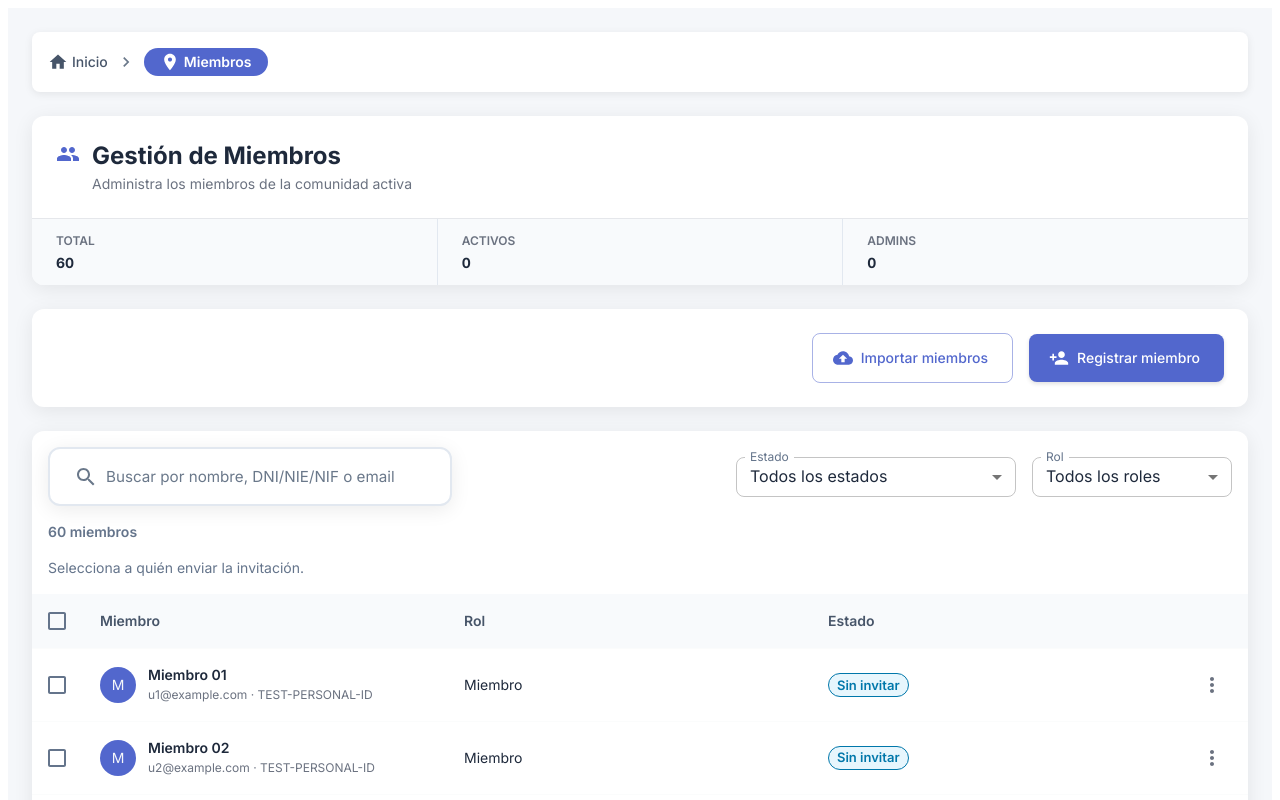
Test: selecting everyone › UI-MBR-038 selects the first 50 rows the filters let through, says so, and admits no 51st
Expected: the text "Miembro 01" is shown, x1=148 y1=666 x2=227 y2=683
Click the checkbox named "Seleccionar todo" at (57, 621), box x1=45 y1=609 x2=69 y2=633
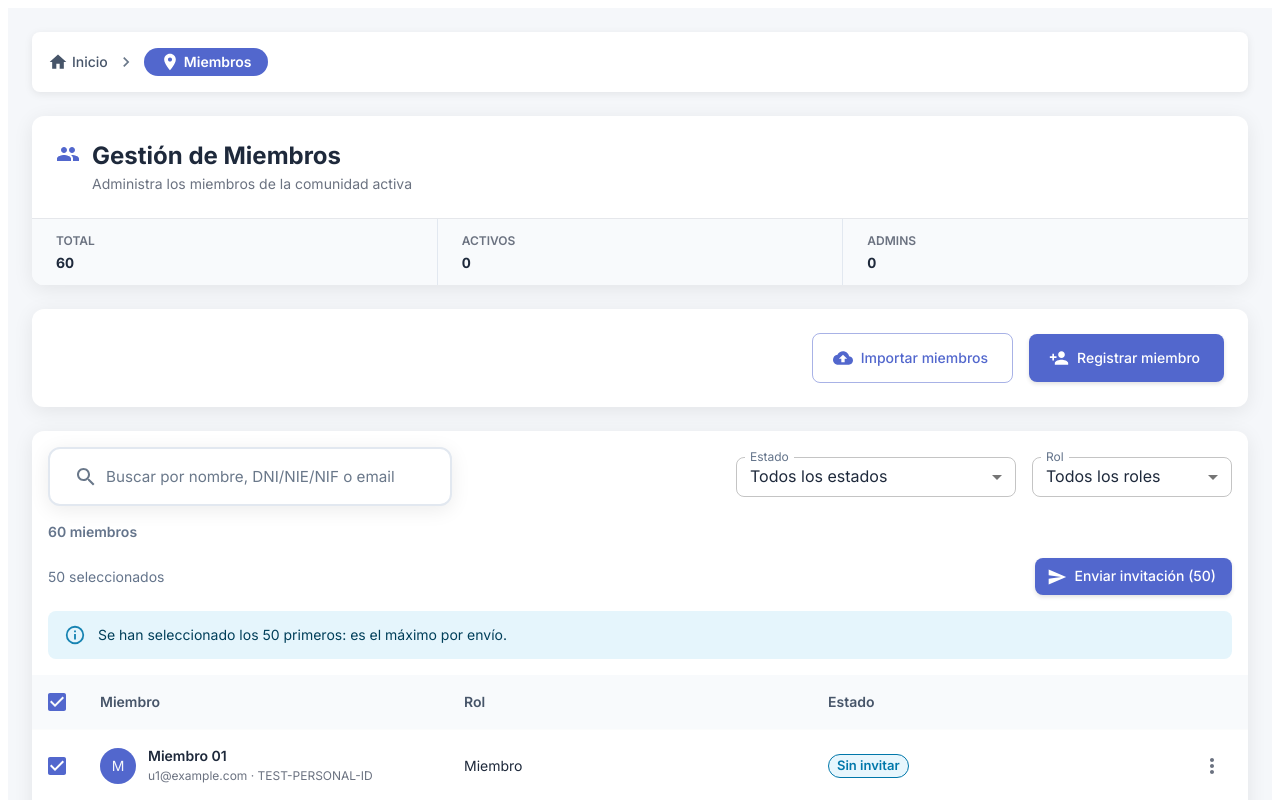
Now the text "50 seleccionados" is shown, box x1=48 y1=568 x2=164 y2=584
Now the text "Se han seleccionado los 50 primeros: es el máximo por envío." is shown, box x1=98 y1=626 x2=507 y2=643
Now the button "Enviar invitación (50)" is shown, box x1=1034 y1=558 x2=1232 y2=595
# Row 51 is on the third page: across pages, every row was in reach.
Type "Miembro 51" into the search field named "Buscar miembros" at (270, 477), box x1=106 y1=462 x2=434 y2=492
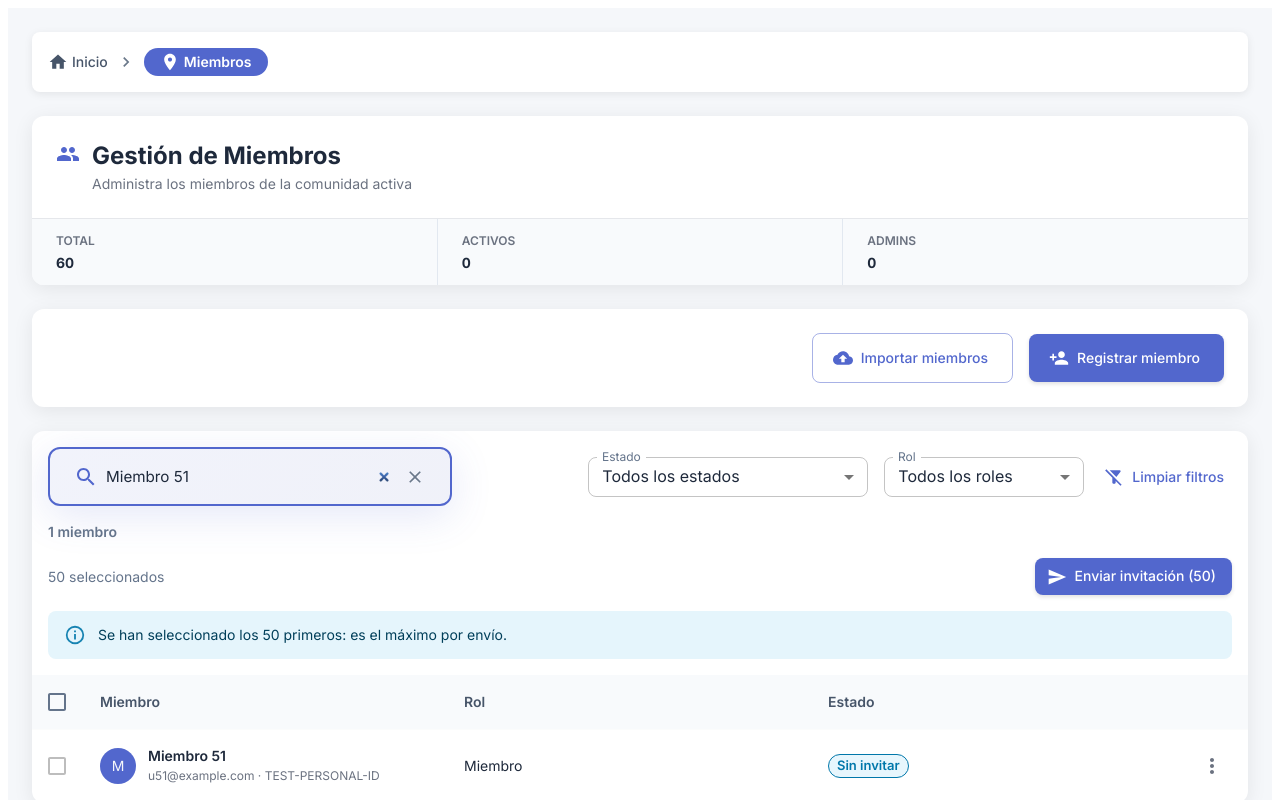
Now the checkbox named "Seleccionar Miembro 51" is not checked, box x1=45 y1=754 x2=69 y2=778
Now the checkbox named "Seleccionar Miembro 51" is disabled, box x1=45 y1=754 x2=69 y2=778
